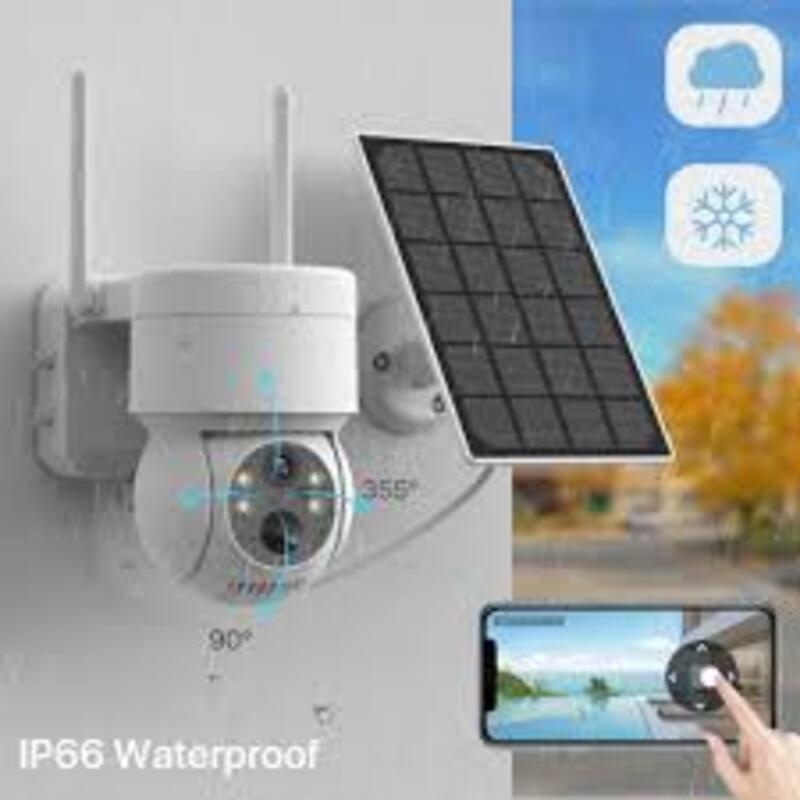ptz: (112, 416, 379, 640)
